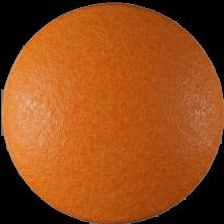67046-670: (0, 0, 224, 224)
